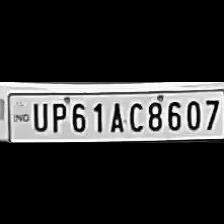0: (183, 96, 201, 130)
1: (89, 98, 106, 132)
6: (68, 98, 88, 132), (164, 96, 182, 130)
7: (202, 95, 220, 129)
8: (145, 96, 163, 130)
A: (105, 98, 124, 132)
C: (124, 97, 144, 132)
P: (47, 98, 66, 132)
U: (28, 98, 48, 132)
